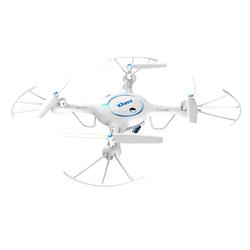drone: (9, 55, 243, 189)
